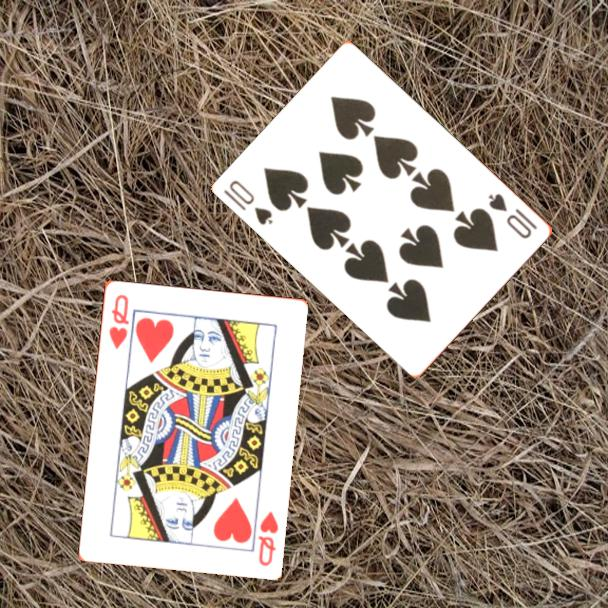h12: (254, 507, 281, 569), (105, 291, 131, 352)
s10: (220, 176, 277, 228), (485, 190, 541, 242)
